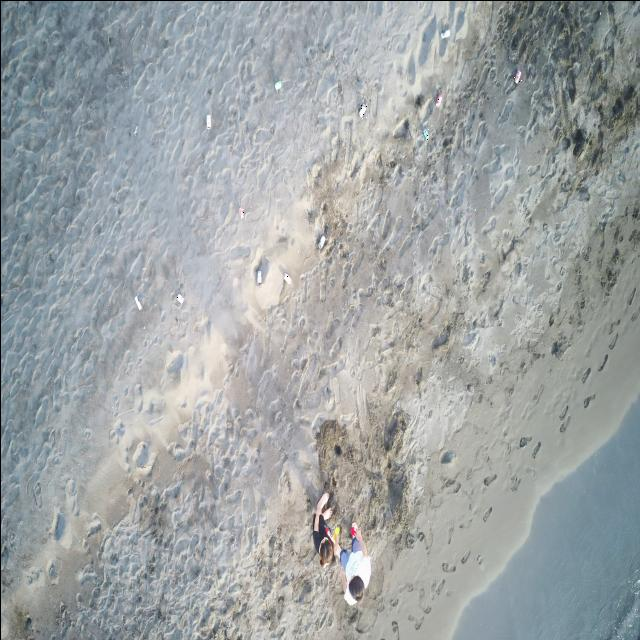Garbage: (392, 119, 407, 138), (332, 524, 340, 542), (316, 233, 324, 248), (513, 70, 522, 83), (359, 103, 366, 116), (273, 80, 281, 91), (283, 272, 291, 283), (435, 93, 442, 105), (440, 28, 449, 37), (256, 268, 261, 283), (135, 296, 140, 310), (206, 114, 211, 128), (176, 293, 183, 303), (422, 128, 427, 140), (131, 125, 136, 136), (239, 207, 243, 218)
